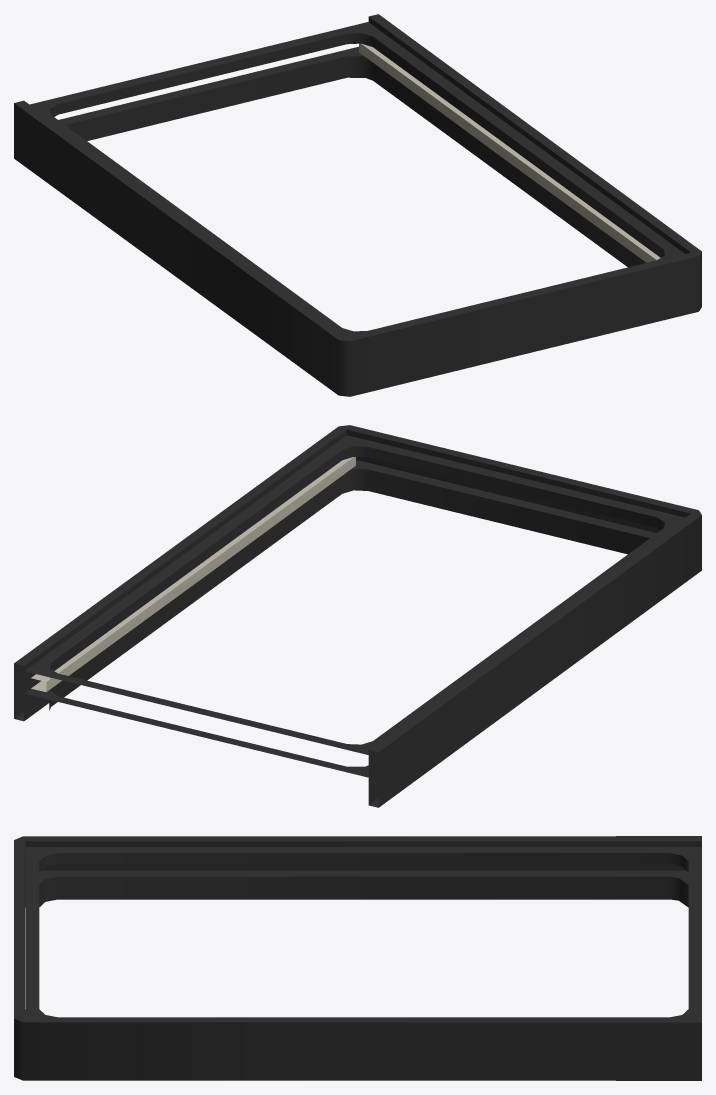
The model's file is nt_2020_doorframe_black_LOD1.obj.
3 views of the same model, one above another, from view 1: azimuth 30°, elevation 25°; view 2: azimuth 150°, elevation 25°; view 3: azimuth 270°, elevation 25° (orthographic). The views are drawn at different scales.
Visible parts, largest first — view 1: global_color_black_smooth, nt_2020_plastic_cream; view 2: global_color_black_smooth, nt_2020_plastic_cream; view 3: global_color_black_smooth.
Boxes of the visible parts, left/top/right/bottom form: global_color_black_smooth: left=14, top=14, right=701, bottom=396; nt_2020_plastic_cream: left=359, top=43, right=660, bottom=262; global_color_black_smooth: left=14, top=425, right=701, bottom=807; nt_2020_plastic_cream: left=31, top=457, right=355, bottom=692; global_color_black_smooth: left=14, top=836, right=701, bottom=1080.
Size of the model in its own units: 172 by 25.2 by 269.
